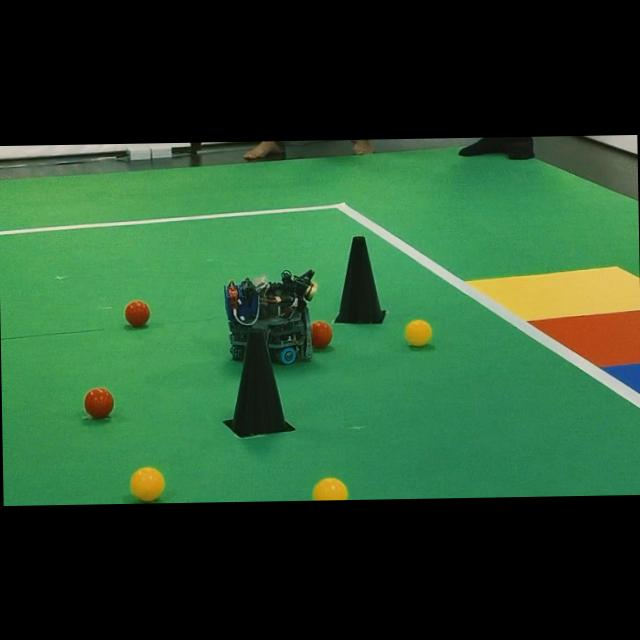ball: (130, 467, 164, 501), (84, 386, 114, 418), (312, 477, 348, 500), (405, 320, 431, 346), (125, 299, 150, 326), (311, 321, 332, 348)
goal: (467, 266, 639, 320), (530, 309, 640, 366), (601, 363, 640, 393)
